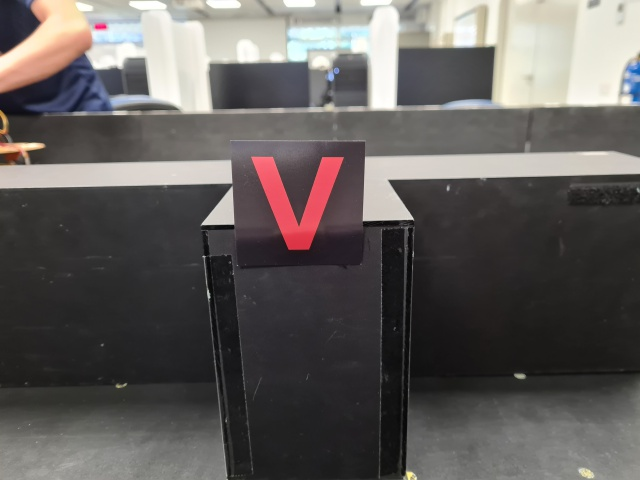alphabet_v: (230, 139, 365, 268)
